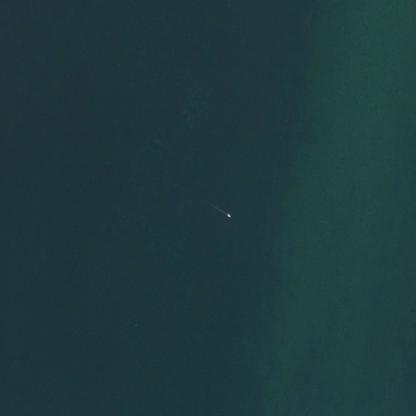ship: (222, 206, 235, 224)
